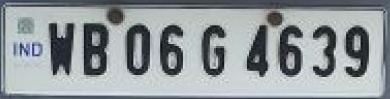character: (47, 20, 75, 75), (124, 22, 151, 76), (200, 23, 226, 78), (82, 20, 107, 76), (277, 24, 303, 77), (343, 24, 369, 77), (158, 23, 183, 77), (245, 24, 270, 77), (312, 23, 336, 76)
